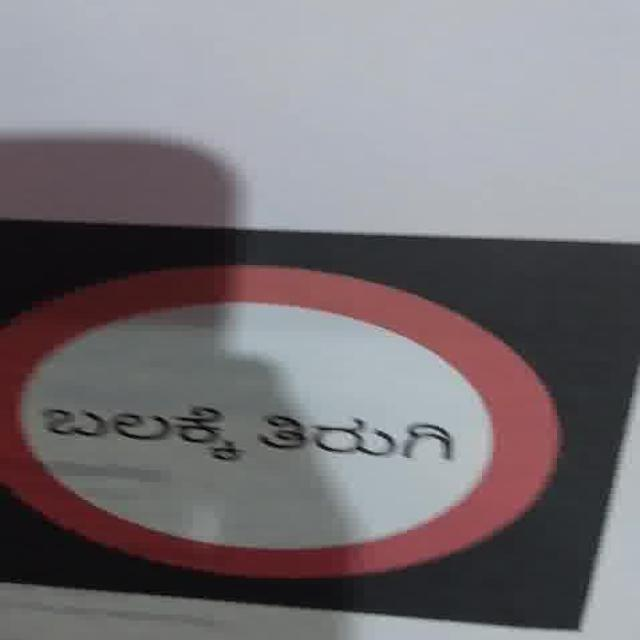kannadaright: (3, 264, 562, 579), (39, 404, 456, 462), (39, 404, 242, 460), (256, 412, 455, 462)
